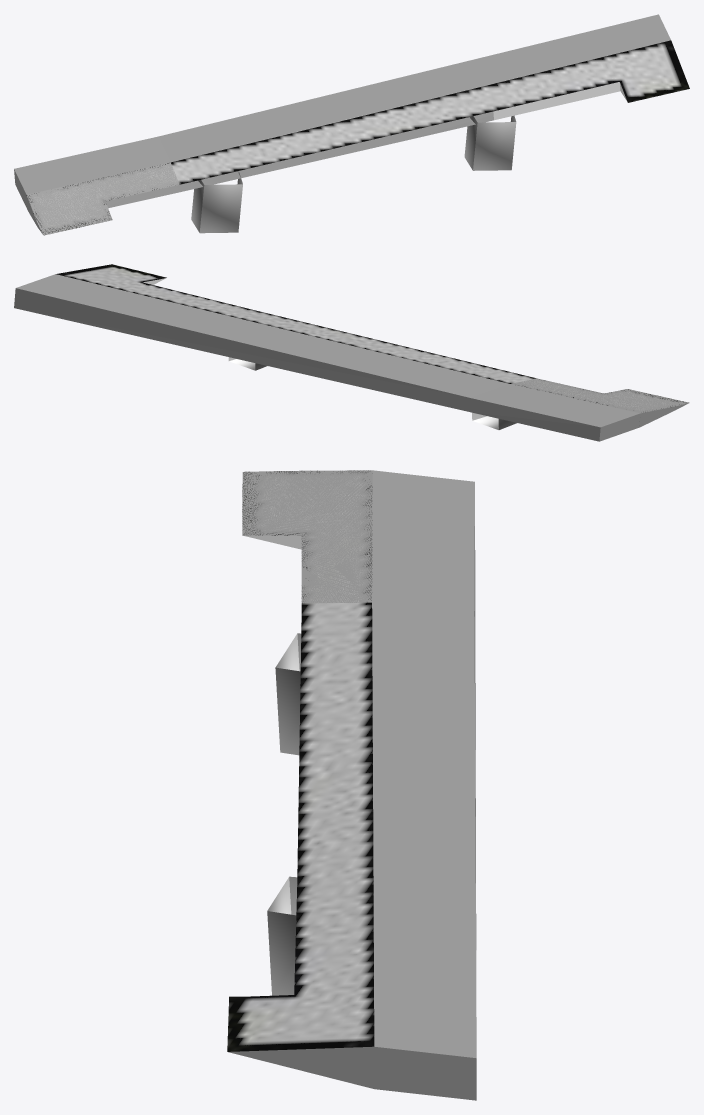
File: leftOuterFlaps.dae
3 views of the same model, one above another, from view 1: azimuth 30°, elevation 25°; view 2: azimuth 150°, elevation 25°; view 3: azimuth 270°, elevation 25° (orthographic). The views are drawn at different scales.
Parts seen in each view (by area): view 1: SketchUp (×8); view 2: SketchUp (×4); view 3: SketchUp (×5).
Part boxes in pixels (left/top/right/bottom): SketchUp (×8): left=14, top=14, right=689, bottom=235; SketchUp (×4): left=14, top=264, right=689, bottom=441; SketchUp (×5): left=227, top=470, right=476, bottom=1100.
Size of the model in its own units: 261 by 45.62 by 24.95.
4 materials, 1 textured.
